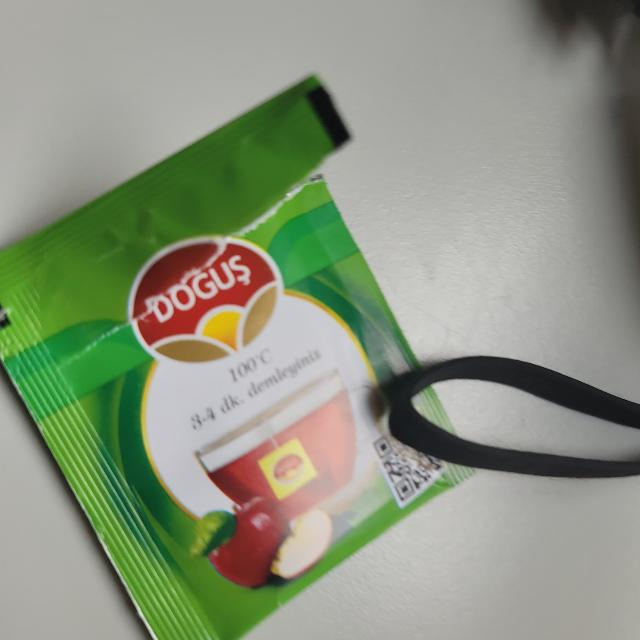Kagit: (0, 76, 484, 640)
